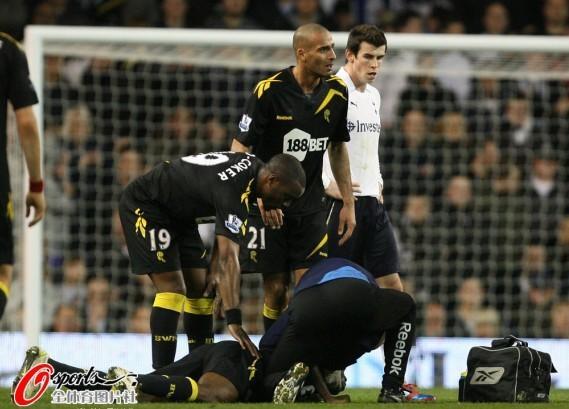bending: (113, 140, 313, 373), (262, 255, 454, 409)
down: (18, 324, 354, 404)
up: (234, 16, 354, 316), (324, 18, 414, 302)
